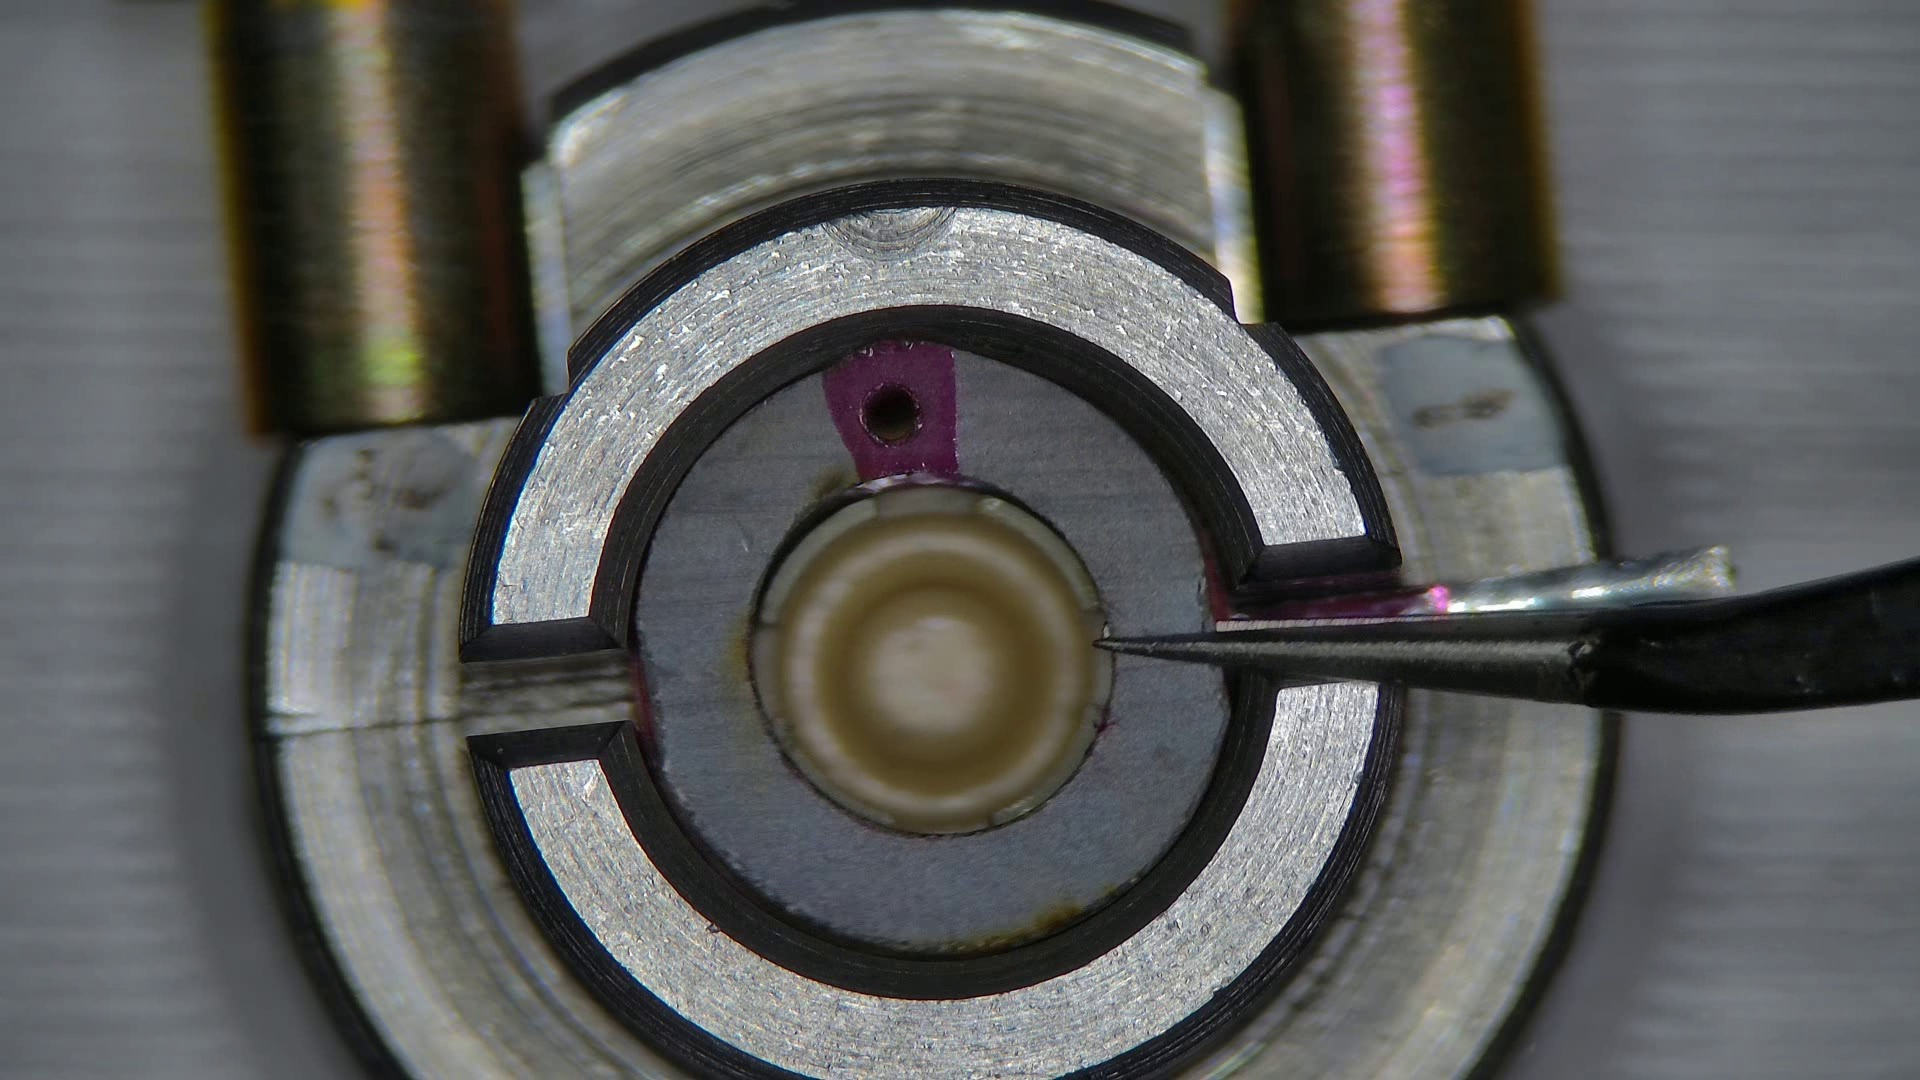YellowOring: (637, 344, 1224, 953)
